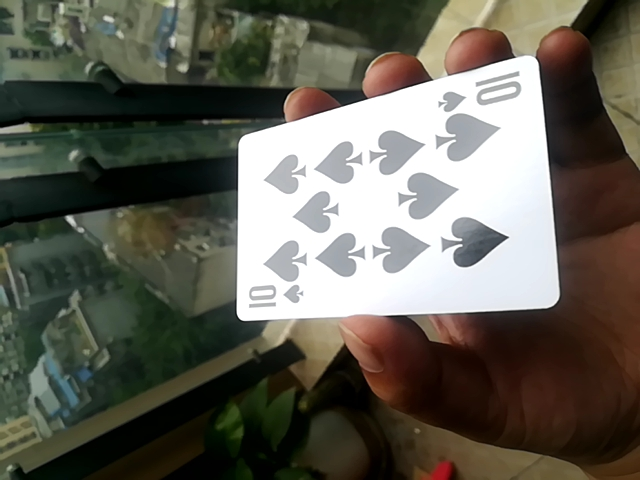ht 10: (225, 55, 557, 328)
